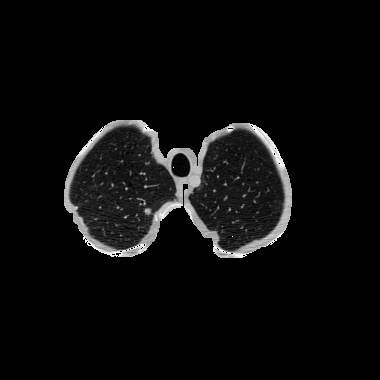PN: (144, 207, 150, 213)
